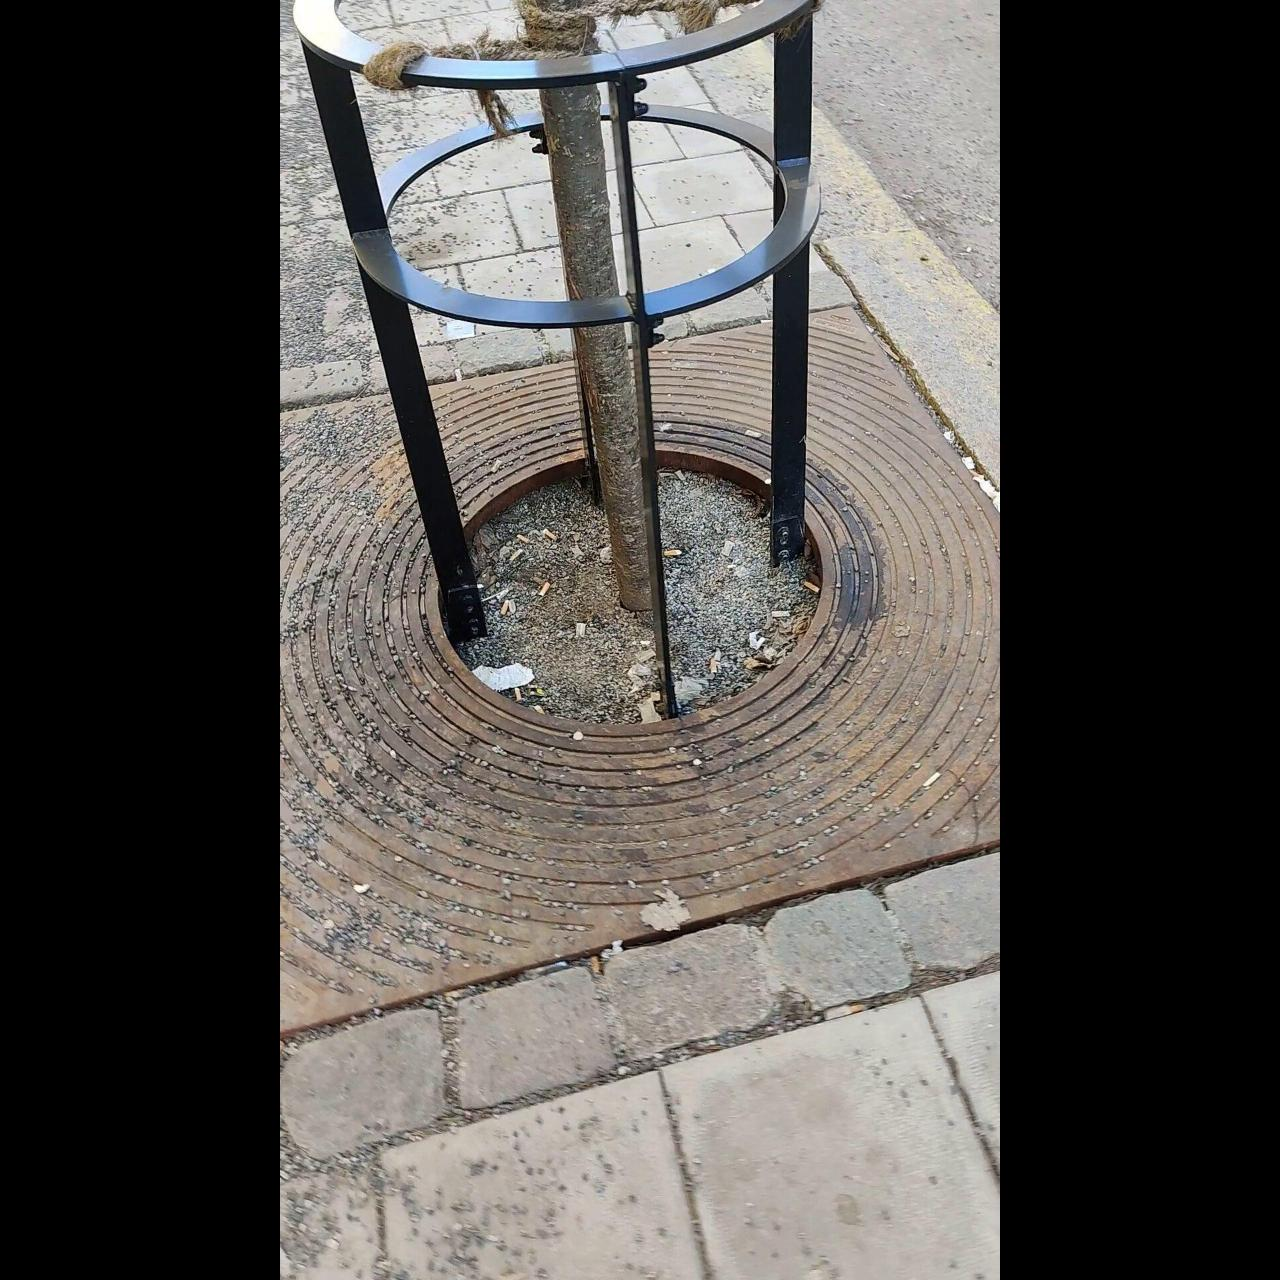cigarettes_butts: (926, 772, 940, 790), (804, 581, 821, 593), (771, 607, 791, 617), (544, 529, 556, 542), (539, 584, 551, 597), (515, 686, 523, 702), (501, 599, 508, 618), (515, 535, 529, 543), (662, 551, 681, 556), (709, 660, 715, 674)
others: (635, 649, 658, 663), (574, 622, 588, 639), (747, 428, 762, 438), (493, 459, 503, 474)
